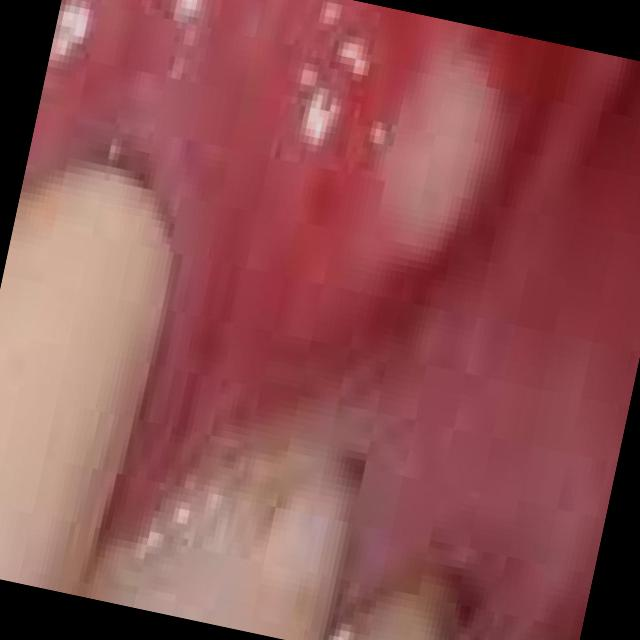abscess: (230, 0, 613, 313)
caries: (195, 398, 388, 636), (345, 520, 523, 640)
